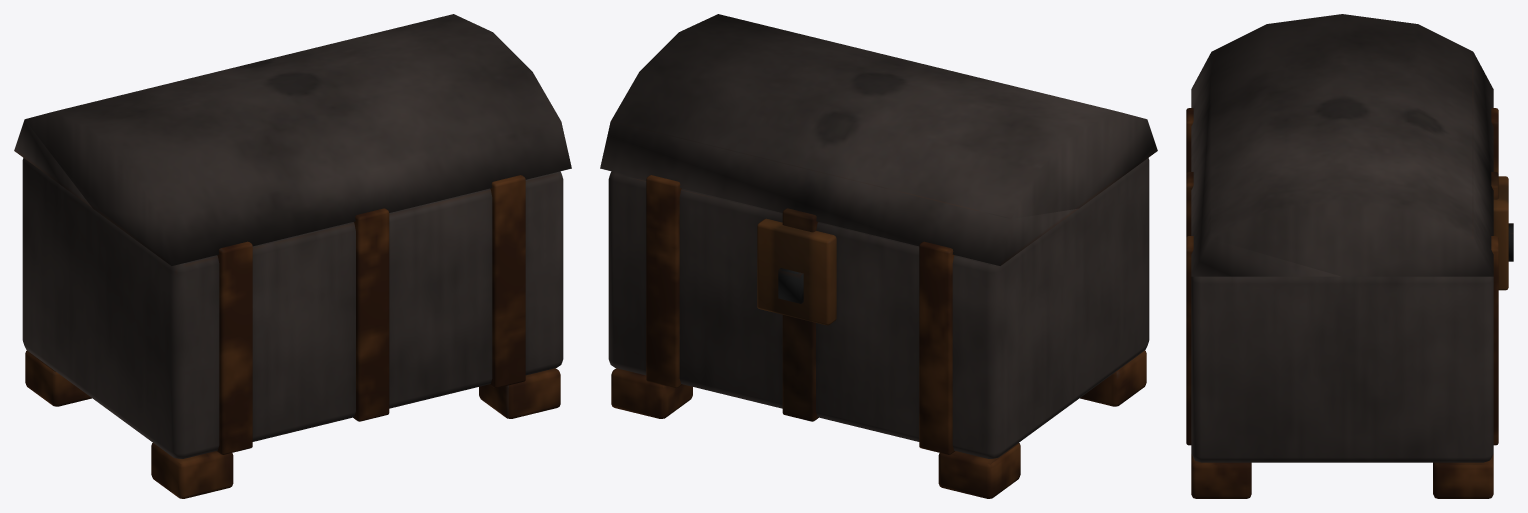
Rendered from maze_coffer.obj.
3 views of the same model, side by side, from view 1: azimuth 30°, elevation 25°; view 2: azimuth 150°, elevation 25°; view 3: azimuth 270°, elevation 25° (orthographic). The views are drawn at different scales.
Parts seen in each view (by area): view 1: part0, part1; view 2: part0, part1, part2, part3; view 3: part0, part1, part2.
Part boxes in pixels (x1=…): part0: x1=14, y1=14, x2=571, y2=458; part1: x1=25, y1=175, x2=560, y2=498; part0: x1=600, y1=14, x2=1157, y2=458; part1: x1=611, y1=175, x2=1146, y2=498; part2: x1=757, y1=218, x2=836, y2=325; part3: x1=778, y1=268, x2=803, y2=303; part0: x1=1191, y1=14, x2=1493, y2=462; part1: x1=1186, y1=108, x2=1498, y2=498; part2: x1=1493, y1=176, x2=1508, y2=290.
Size of the model in its own units: 0.88 by 0.665 by 0.65.
